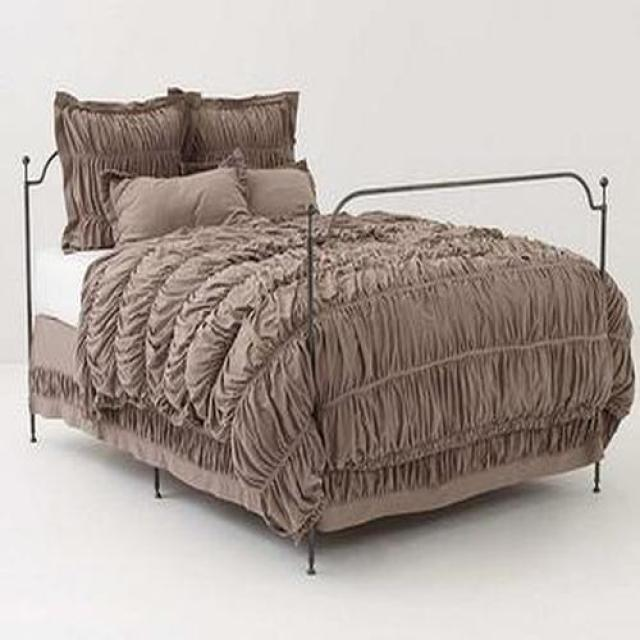bed: (28, 90, 636, 576)
